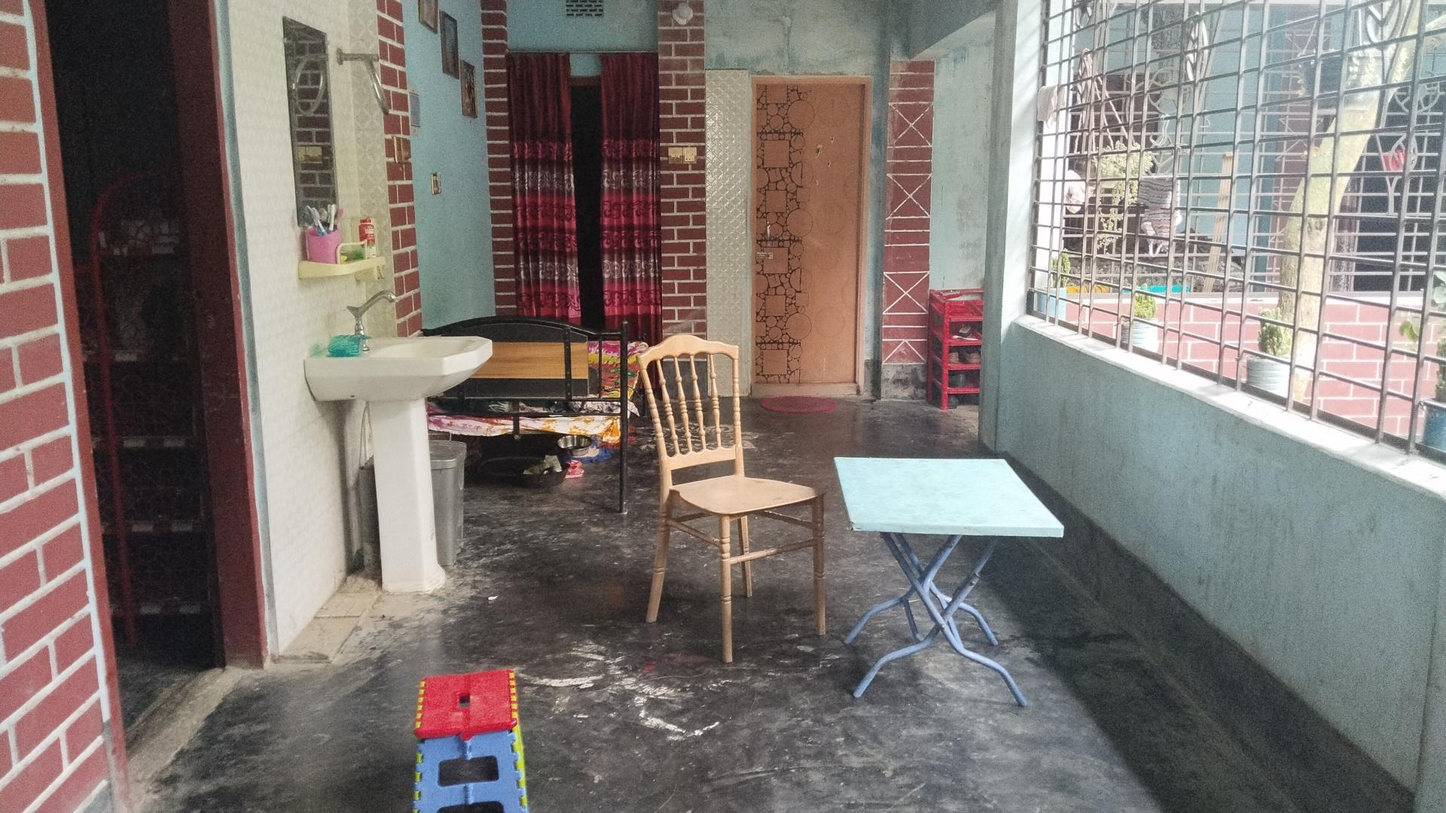Chair: (633, 324, 829, 660)
Door: (750, 82, 859, 385)
Stool: (416, 666, 528, 813)
Table: (833, 445, 1064, 676)
